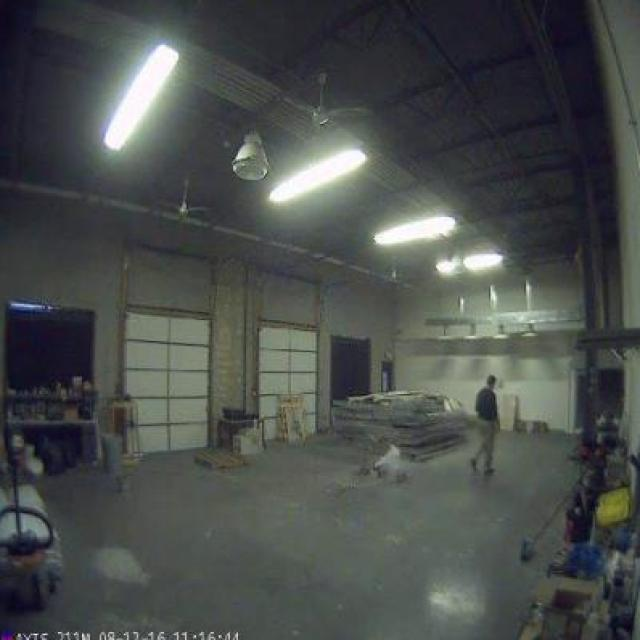fire: (370, 438, 406, 477)
